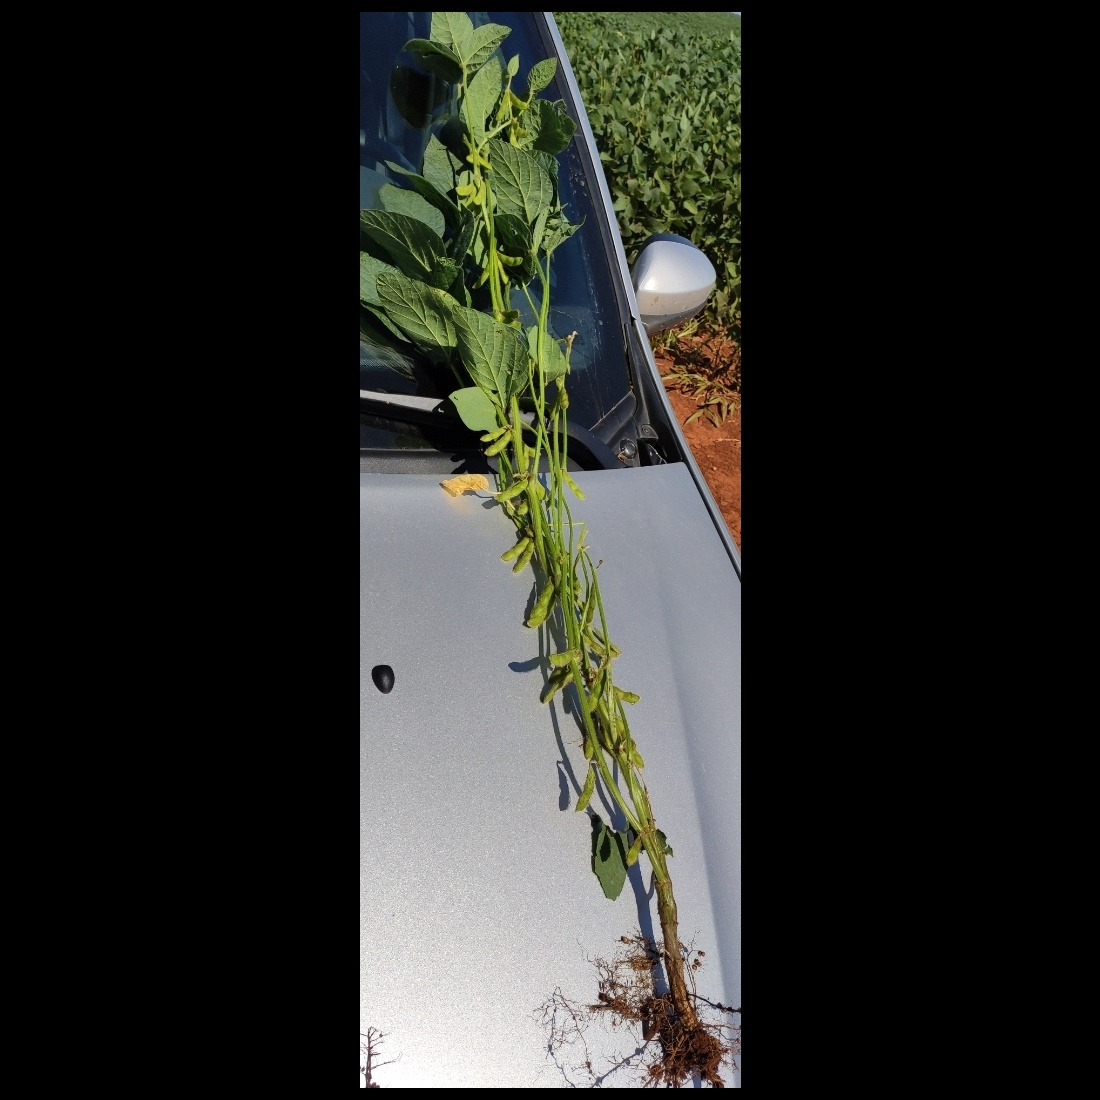pod: (556, 470, 588, 505), (576, 767, 598, 815), (484, 429, 517, 459), (500, 535, 533, 563), (513, 538, 536, 576), (504, 85, 533, 110), (496, 479, 528, 502), (478, 425, 510, 446), (492, 250, 528, 267), (494, 91, 511, 123), (614, 684, 642, 703), (472, 179, 491, 205)
soy: (383, 23, 730, 1067)
